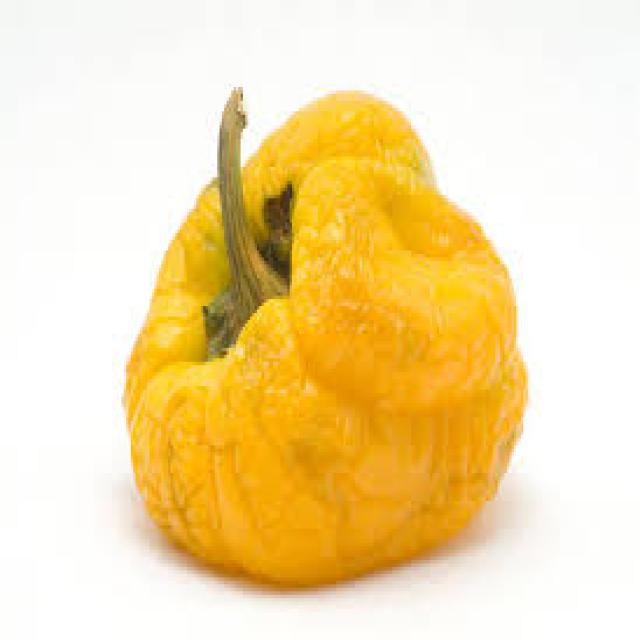food_waste: (126, 90, 526, 581)
